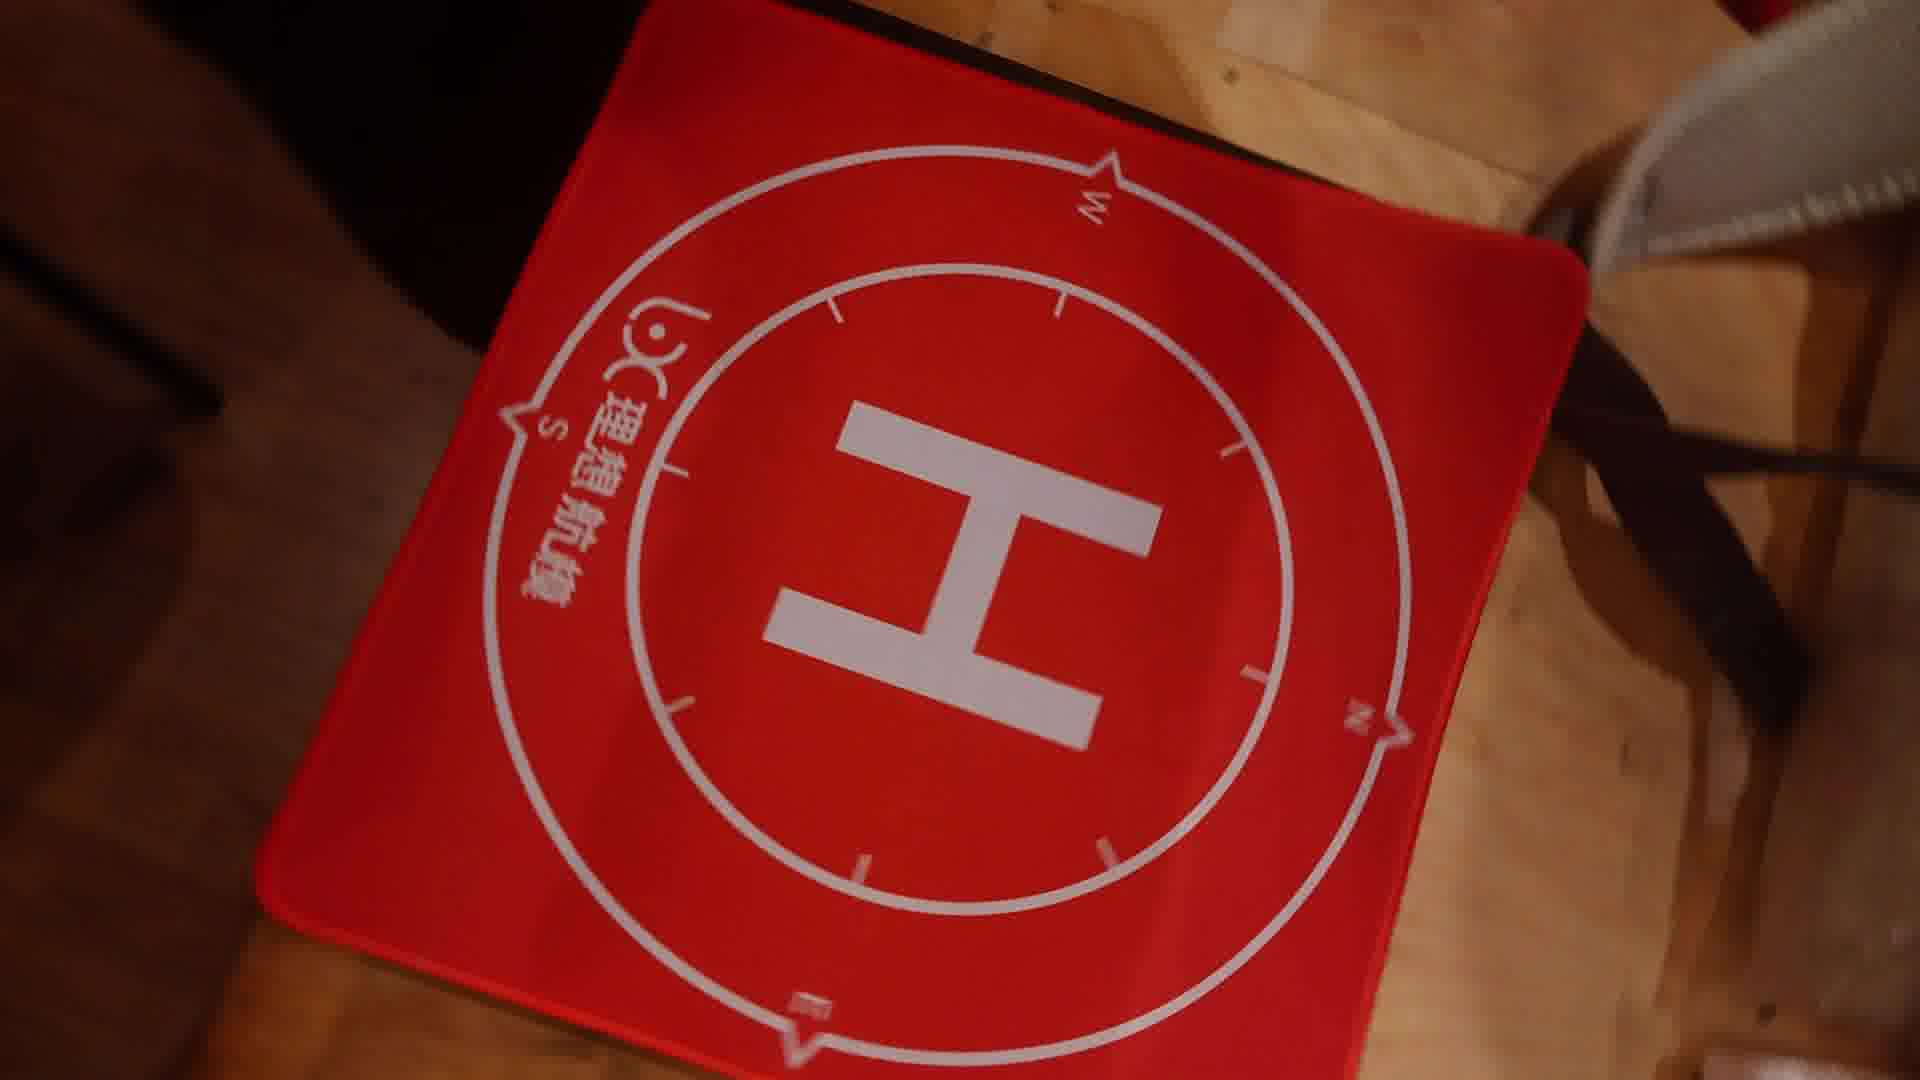H: (764, 400, 1164, 758)
